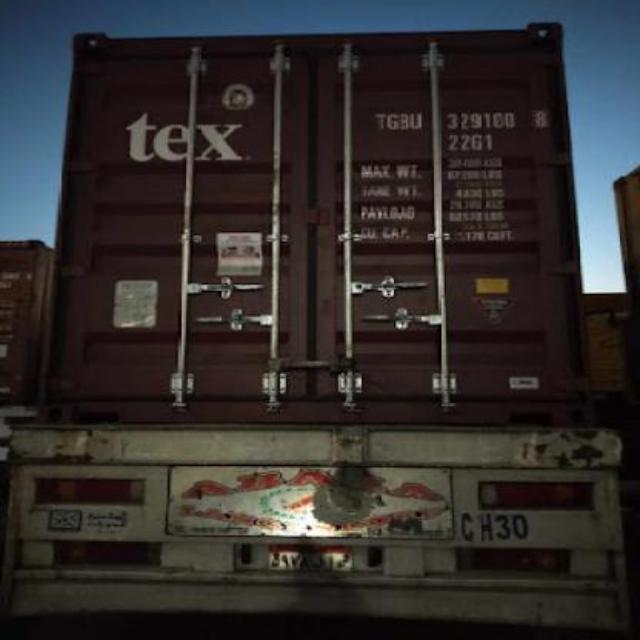0: (504, 104, 516, 132), (492, 106, 504, 132)
1: (481, 104, 494, 132)
2: (456, 104, 468, 130)
3: (444, 105, 456, 131)
8: (532, 102, 548, 134)
9: (470, 108, 482, 132)
B: (396, 105, 409, 132)
G: (384, 106, 398, 134)
T: (374, 108, 386, 134)
U: (408, 105, 422, 131)
